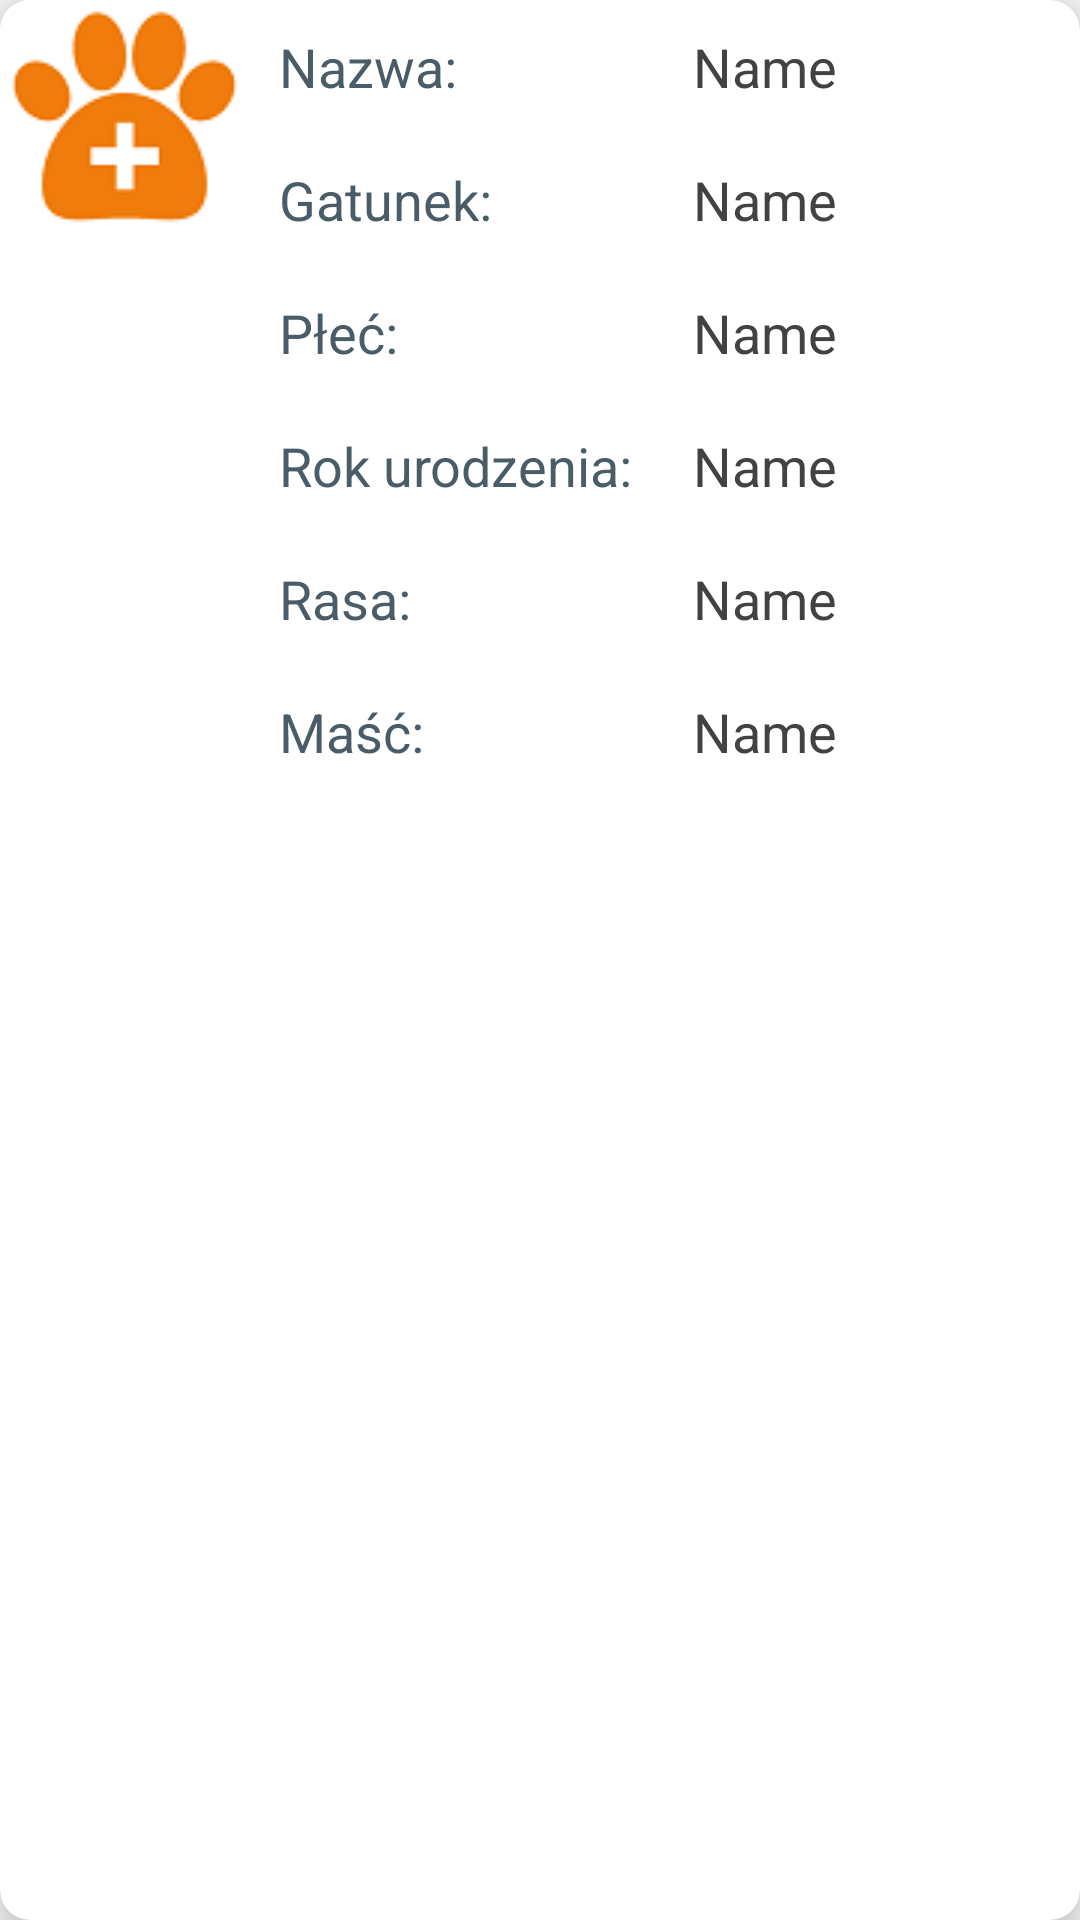

Icon bounding boxes for this 1080w x 1920h phone screenshot, format (x1, y1, x2, y2):
animals: (0, 0, 237, 222)
